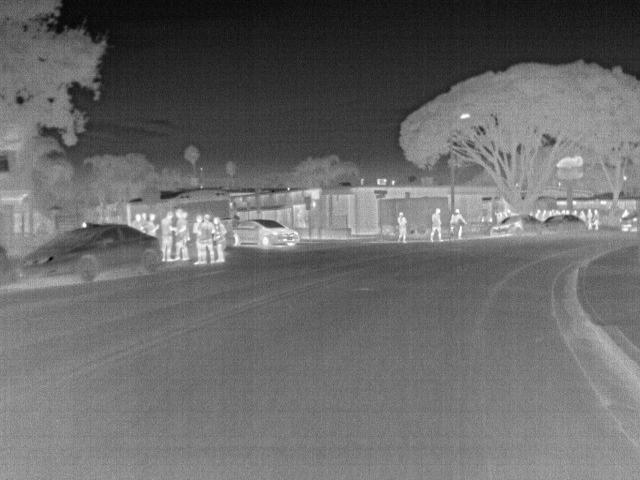car: (14, 220, 159, 285), (233, 216, 300, 248), (489, 215, 547, 237), (542, 212, 590, 230), (619, 212, 636, 231)
person: (172, 209, 190, 260), (161, 209, 174, 263), (212, 218, 227, 262), (193, 215, 206, 264), (202, 214, 215, 262), (429, 208, 445, 243), (448, 208, 466, 239), (397, 208, 410, 243), (144, 213, 158, 235), (129, 212, 144, 231), (532, 207, 545, 222), (576, 207, 588, 223), (590, 209, 599, 230), (586, 207, 594, 226), (620, 208, 629, 221)
